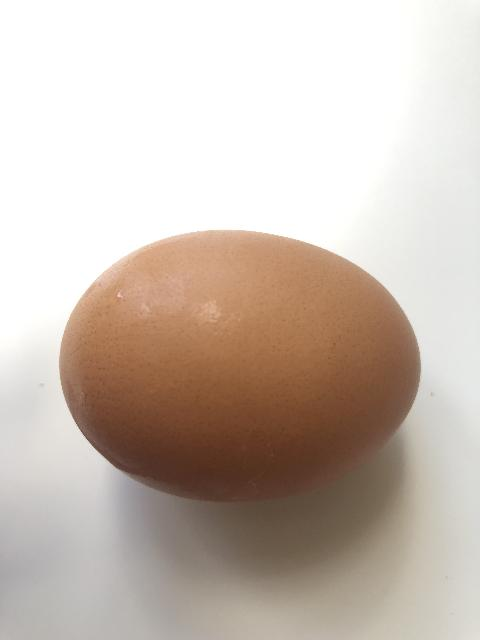Sano: (59, 228, 421, 503)
